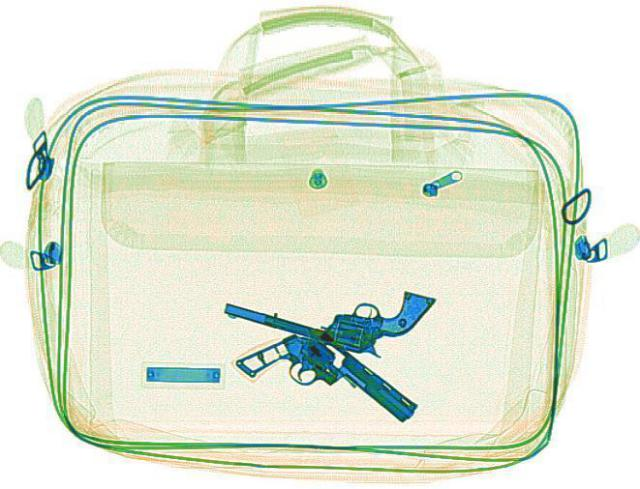Gun: (229, 316, 423, 455), (218, 247, 436, 362)
